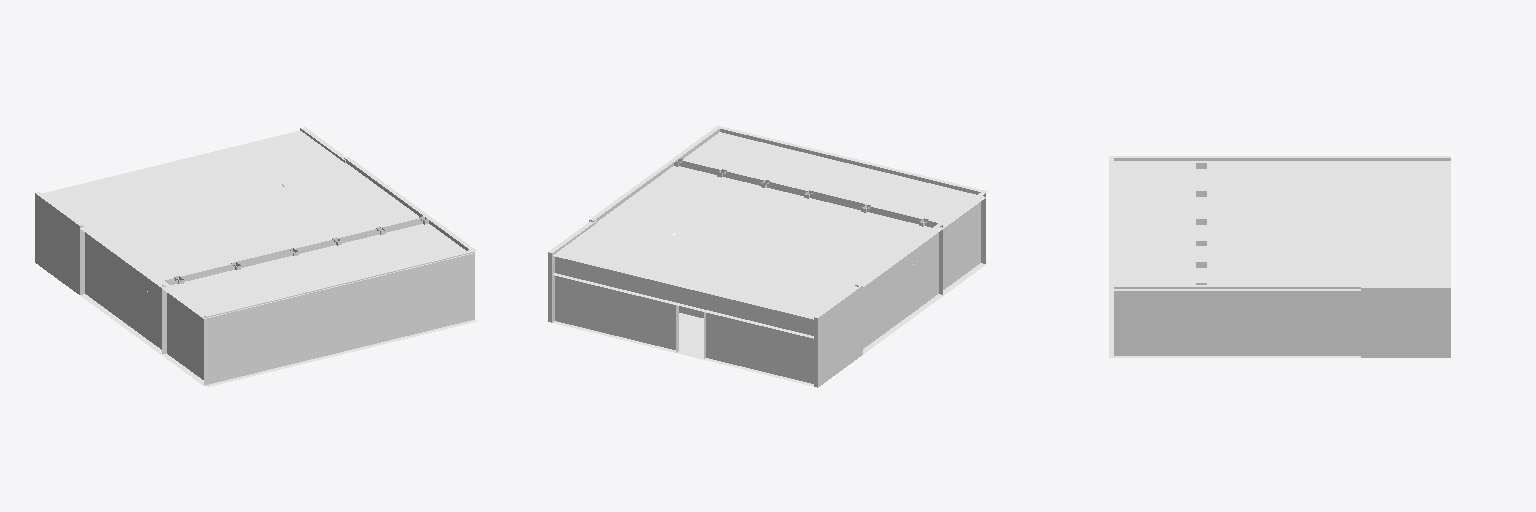
File: HC_cont1_049.obj
3 views of the same model, side by side, from view 1: azimuth 30°, elevation 25°; view 2: azimuth 150°, elevation 25°; view 3: azimuth 270°, elevation 25° (orthographic).
Parts seen in each view (by area): view 1: HC_cont1_049; view 2: HC_cont1_049; view 3: HC_cont1_049.
Boxes of the visible parts, x1=… form: HC_cont1_049: x1=35, y1=127, x2=476, y2=386; HC_cont1_049: x1=548, y1=126, x2=987, y2=387; HC_cont1_049: x1=1109, y1=156, x2=1450, y2=357.
Size of the model in its own units: 18.96 by 4.8 by 20.72.